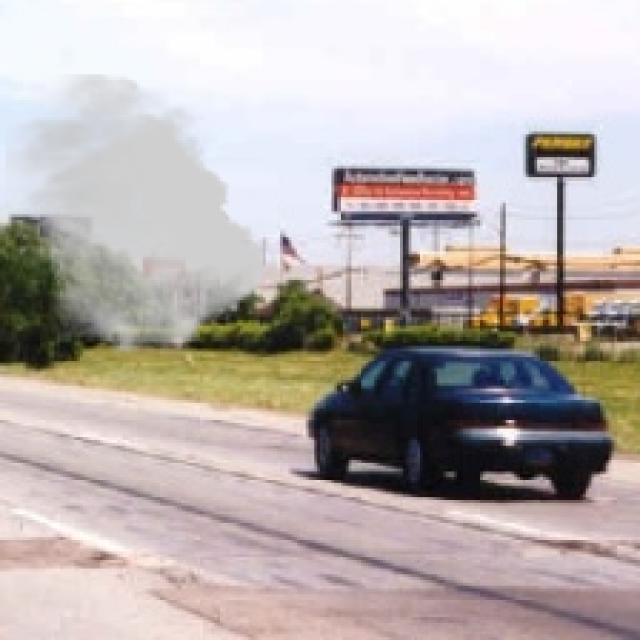smoke: (6, 74, 266, 354)
